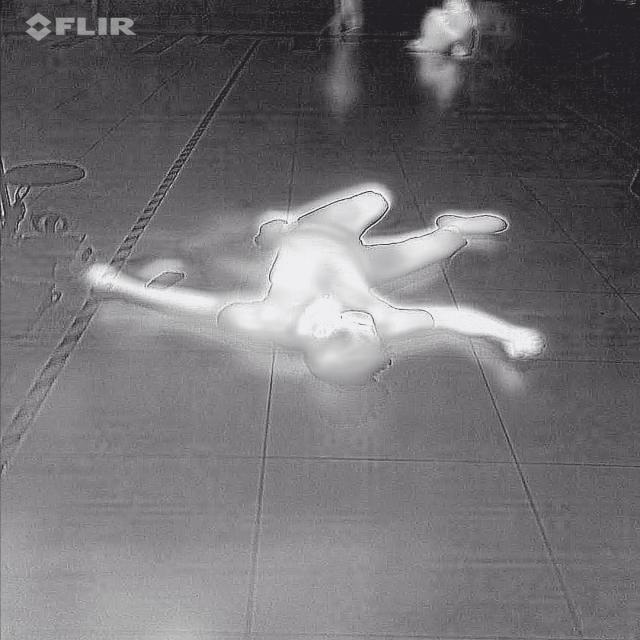Victim: (80, 164, 567, 394), (398, 0, 488, 63)
